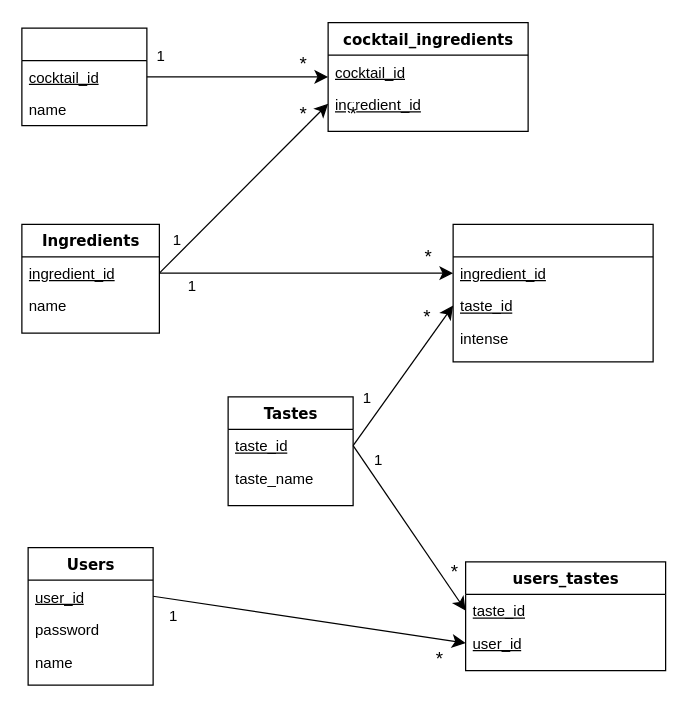
This 688x706 diagram has some shape labels left out. The shapes that lost their labels are listed below. From the top down, each one's box as (x1, y1, x2, y2) in pixels, then its label:
(21, 27, 147, 126): Cocktails
(452, 223, 653, 362): ingredients_tastes
